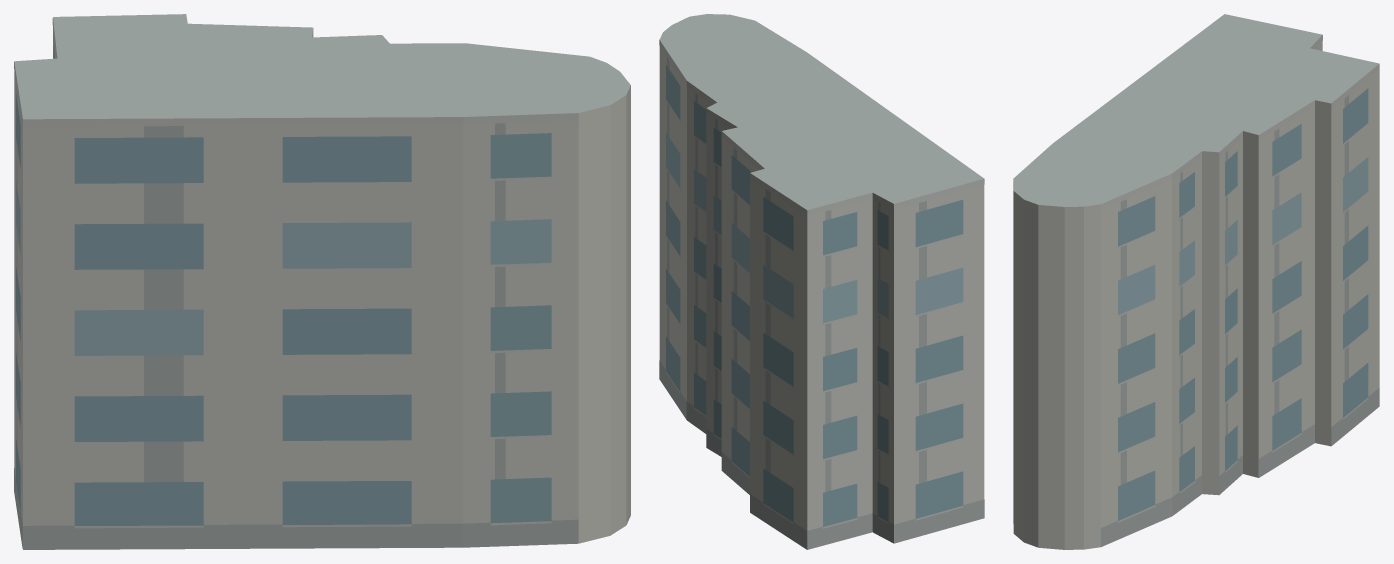
File: survey-upis-32722877.glb
3 renders of one model, left to right at view 1: azimuth 30°, elevation 25°; view 2: azimuth 150°, elevation 25°; view 3: azimuth 270°, elevation 25°, orthographic. The views are drawn at different scales.
Visible parts, largest first — view 1: survey-upis-32722877.tmp; view 2: survey-upis-32722877.tmp; view 3: survey-upis-32722877.tmp.
Part boxes in pixels (x1,y1,x2,y2): survey-upis-32722877.tmp: (14, 14, 630, 549); survey-upis-32722877.tmp: (659, 14, 984, 549); survey-upis-32722877.tmp: (1013, 14, 1379, 549).
Size of the model in its own units: 16.54 by 13.7 by 13.27.
